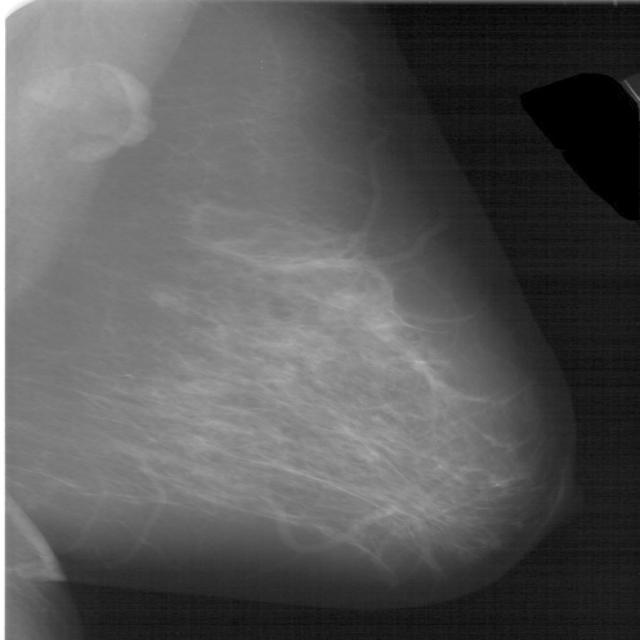tumour: (148, 290, 189, 315)
